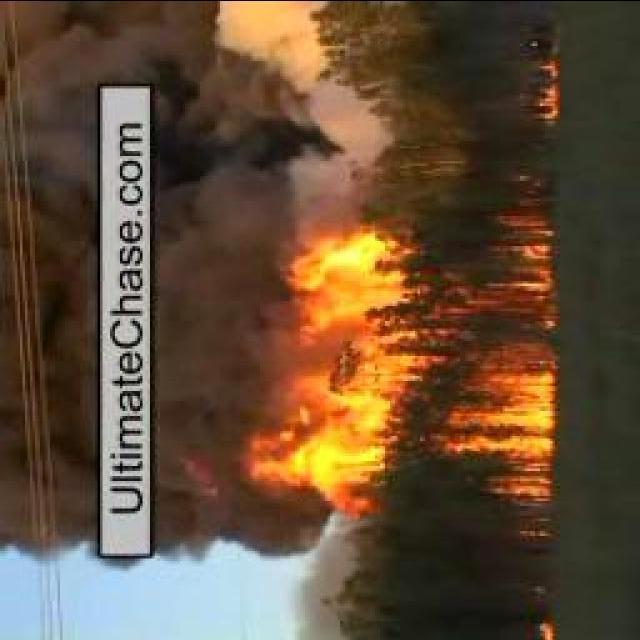Fire: (245, 214, 557, 496), (535, 56, 560, 124), (534, 618, 553, 640)
